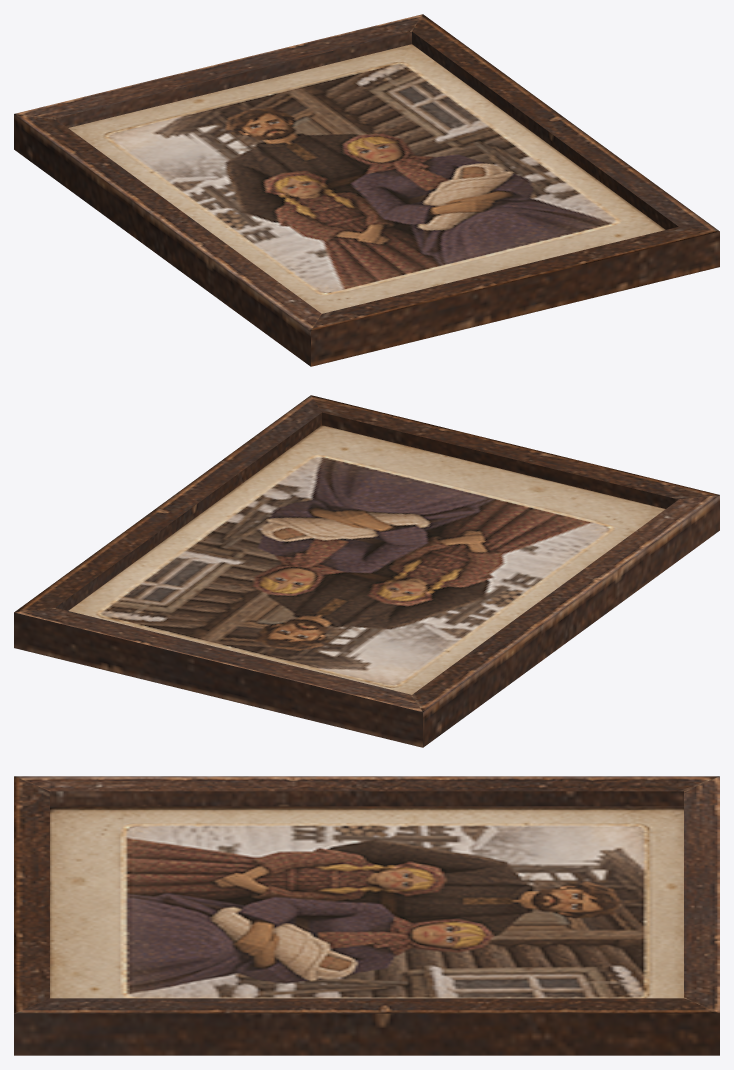
File: Картина.fbx
The picture shows the model from 3 angles, top to bottom: view 1: azimuth 30°, elevation 25°; view 2: azimuth 150°, elevation 25°; view 3: azimuth 270°, elevation 25°; orthographic projection. The views are drawn at different scales.
Visible parts, largest first — view 1: Cube; view 2: Cube; view 3: Cube.
Boxes of the visible parts, left/top/right/bottom form: Cube: left=14, top=14, right=719, bottom=366; Cube: left=14, top=395, right=719, bottom=747; Cube: left=14, top=776, right=719, bottom=1055.
Bounding box in the file's own units: 398 × 33.09 × 501.
Materials: 1 (1 with a texture image).
